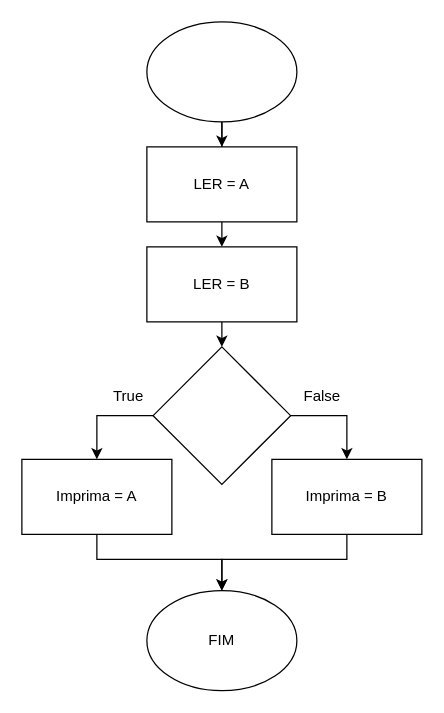
Image size: 444x713. Some labels were removed from this diagram. The centre of each missing label's shape, as x and y in pixels:
"COMPARAR = A > B" goes at (221,415).
"INICIO" goes at (221,71).
